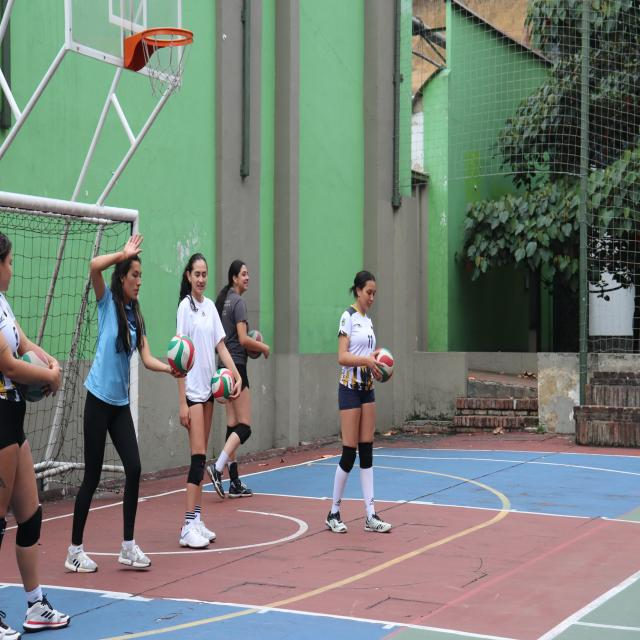volleyball: (167, 334, 196, 376), (216, 368, 235, 404), (374, 348, 394, 382), (245, 330, 264, 360)
